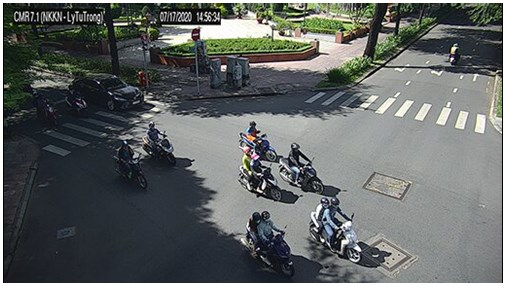xe_hoi: (72, 73, 144, 111)
xe_may: (240, 212, 295, 278), (310, 196, 362, 264), (239, 147, 282, 202), (278, 144, 325, 194), (113, 140, 149, 190), (239, 121, 278, 163), (143, 121, 176, 165), (32, 91, 62, 127), (64, 85, 89, 118), (450, 42, 461, 65)
